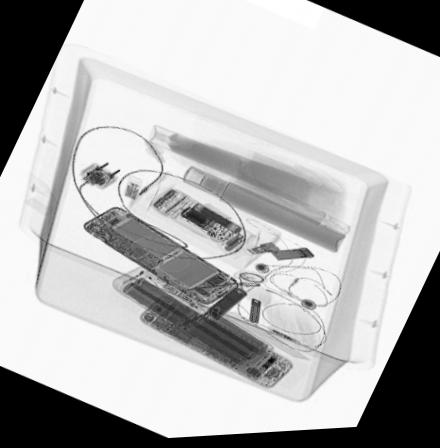Powerbank: (112, 268, 275, 369)
